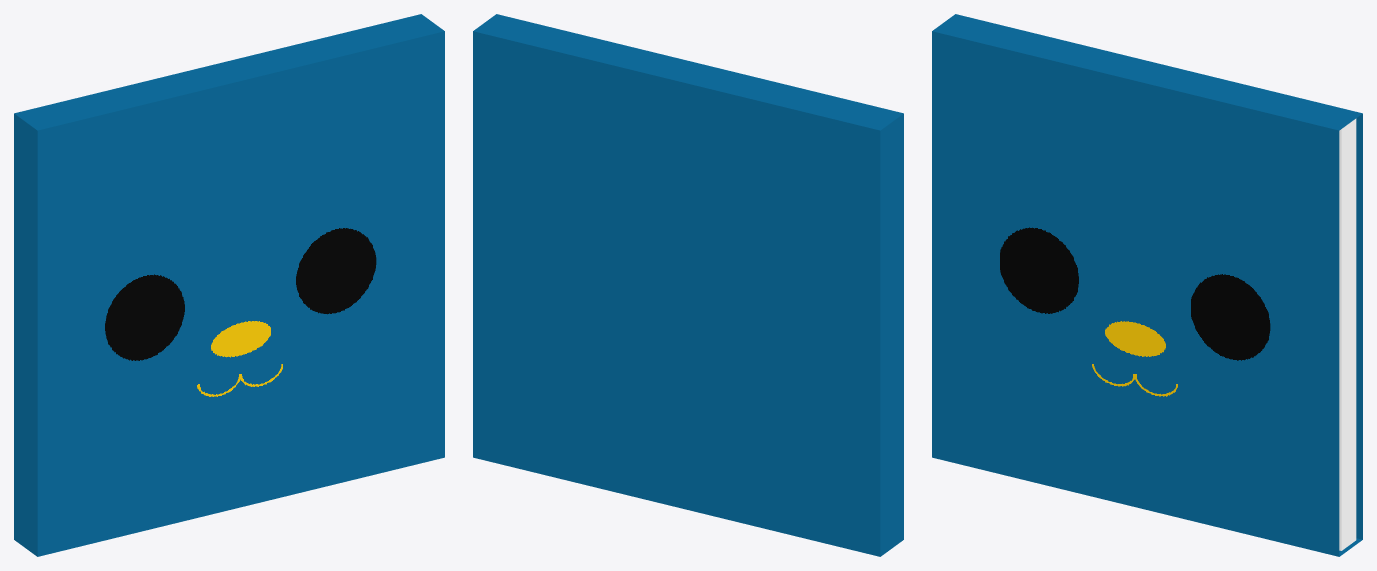
The model's file is tobox.glb.
3 renders of one model, left to right at view 1: azimuth 30°, elevation 25°; view 2: azimuth 150°, elevation 25°; view 3: azimuth 330°, elevation 25°, orthographic.
Parts seen in each view (by area): view 1: Cube; view 2: Cube; view 3: Cube.
Boxes of the visible parts, x1,y1,x2,y2 form: Cube: (14, 14, 444, 556); Cube: (473, 14, 903, 556); Cube: (932, 14, 1362, 556).
Size of the model in its own units: 2.02 by 2.02 by 0.202.
1 material, 1 textured.
